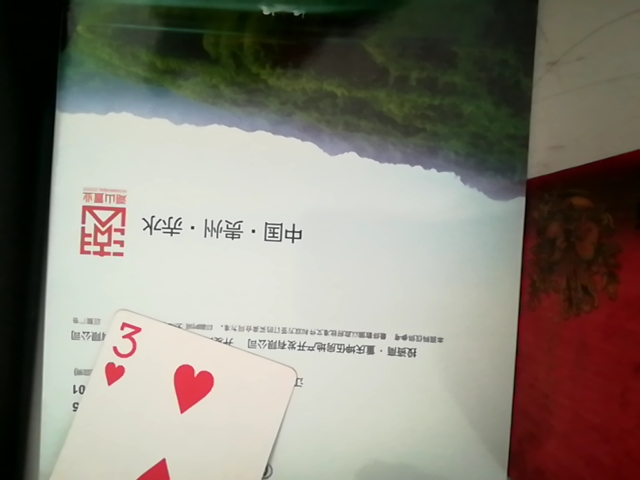hx 3: (52, 314, 304, 480)
